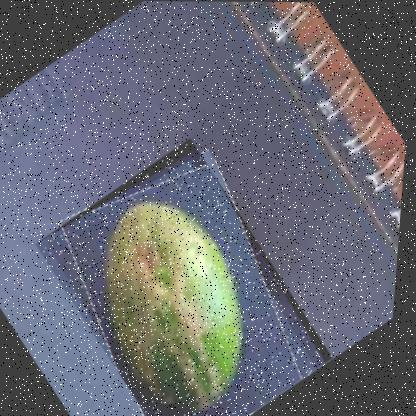orange_rotten: (27, 134, 353, 415)
